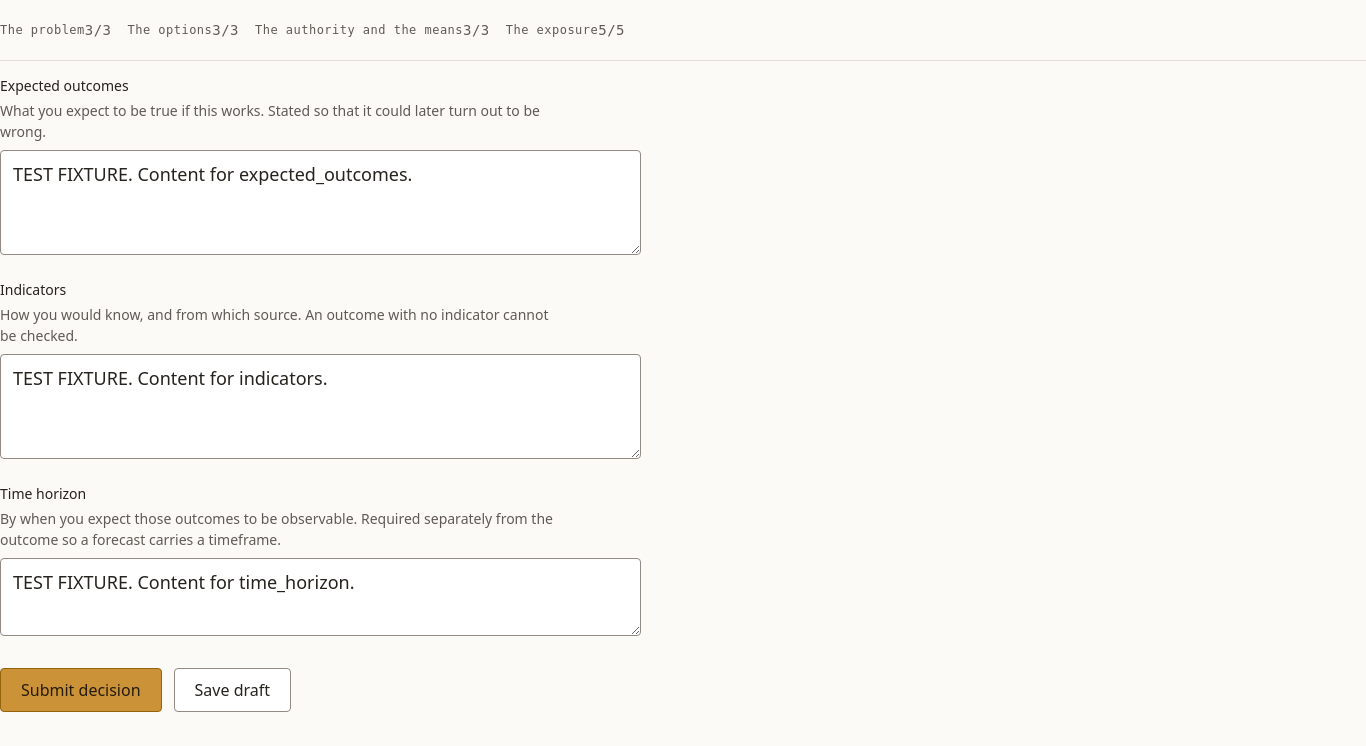
Scenario: Desk — the submission lock › locks every field and withdraws both controls the moment a submit succeeds, with no reload
This screenshot has width=1366, height=746.
(page scrolled)
Step 1. Click the button "Submit decision" → (81, 690), box [0,668,162,712]
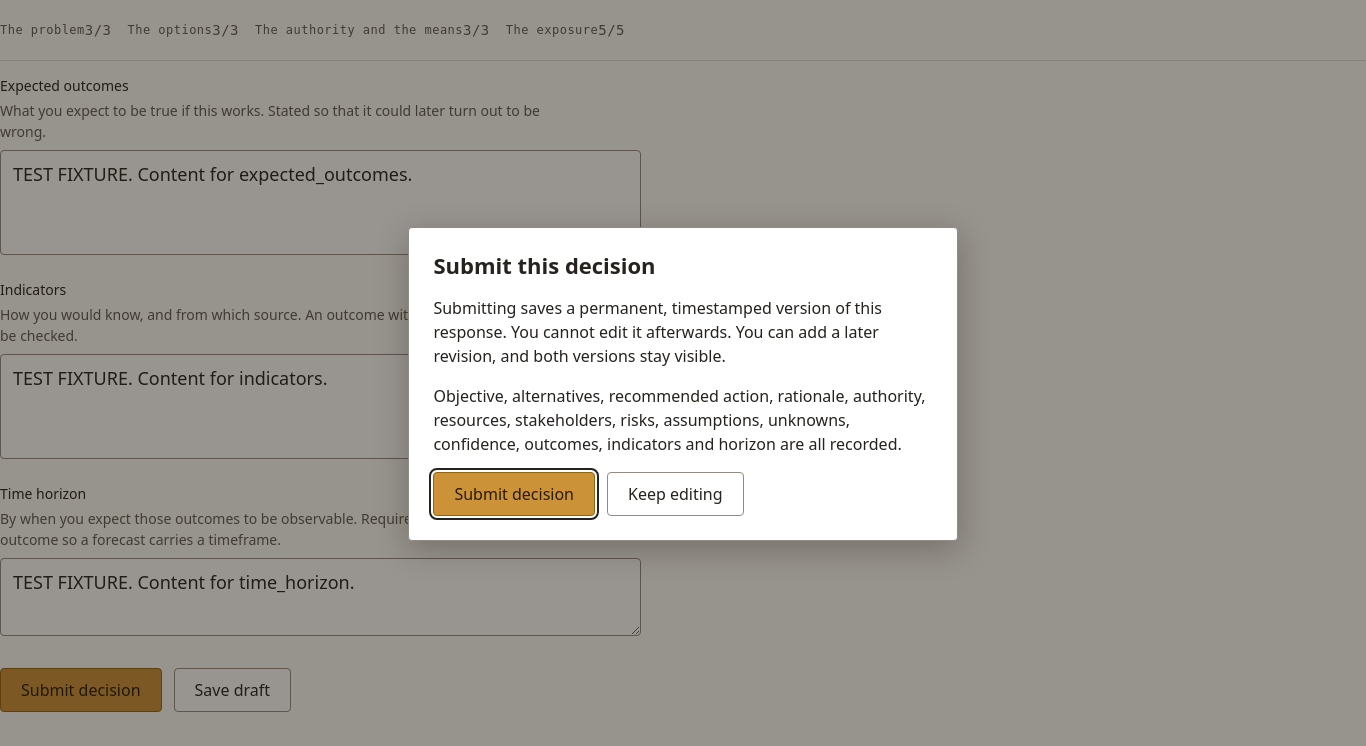
Expected: the dialog is shown, [408,227,958,541]
Step 2. Click the button "Submit decision" → (514, 494), box [433,472,595,516]
(page scrolled)
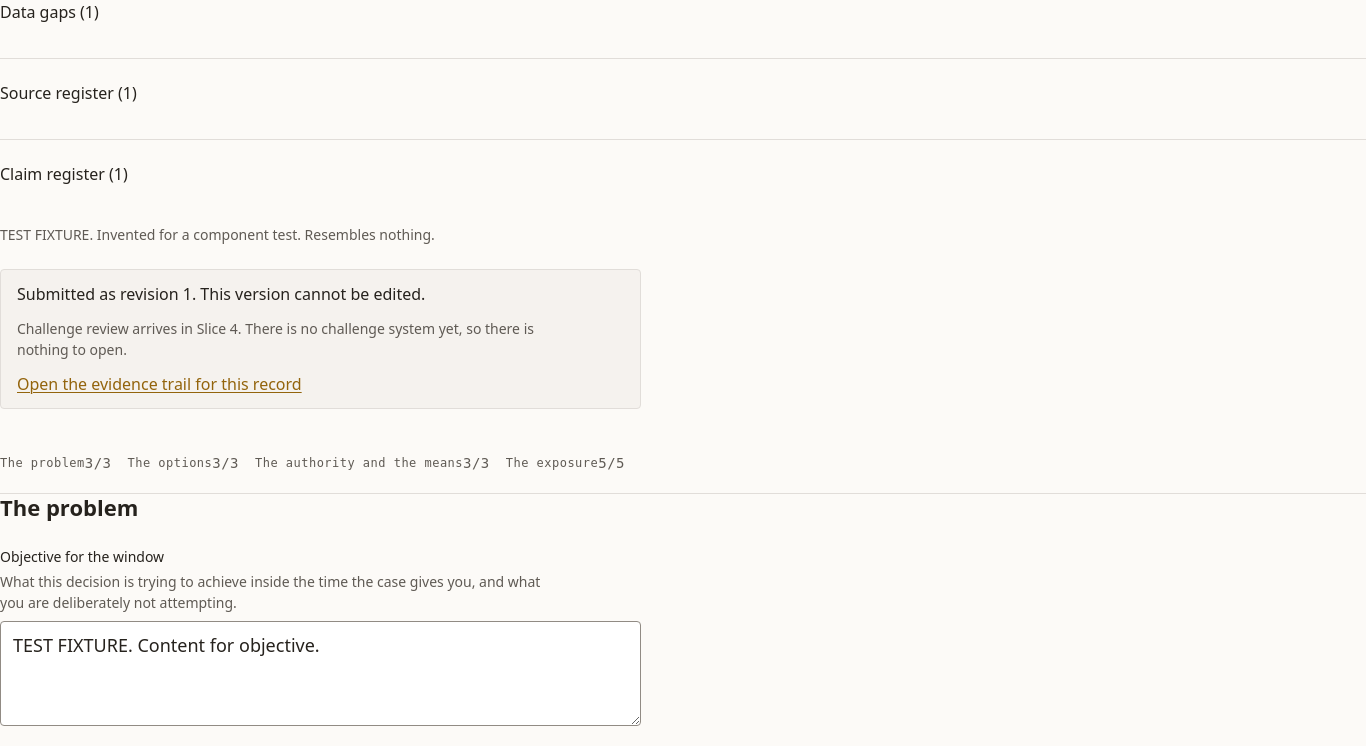
Expected: the button "Save draft" is gone
Expected: the text "Submitted as revision 1. This version cannot be edited." is shown, [17,283,425,305]
Expected: the link "Open the evidence trail for this record" is shown, [17,373,302,395]
